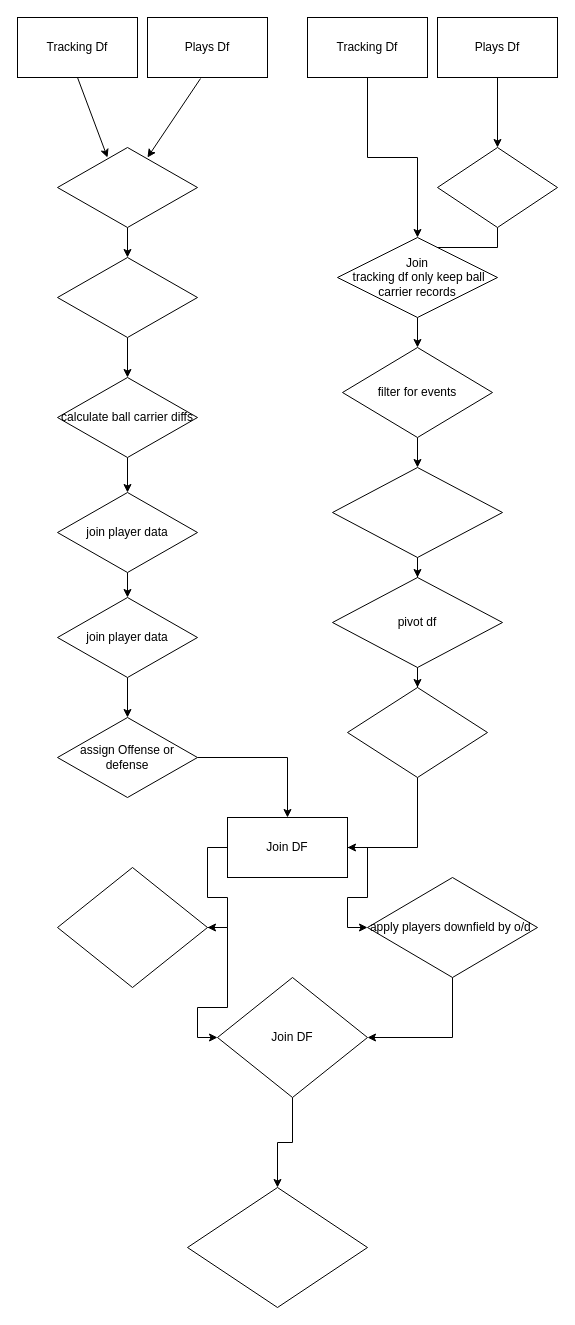
Some shapes in this 575 by 1325 pixel diagram are drawn without their labels. Here are the shapes that lost their labels. From the top down, the centre of each, then its label:
[127,187]: Create BallCarrier PositionCols
[497,187]: Filter Plays With Catch
[127,297]: Join Tracking DF
[417,512]: Create Catch event end event col
[417,732]: Calculate YAC
[132,927]: agg players within radius of ball carrie positions by o/d
[277,1247]: Pivot to one Record Per Play
